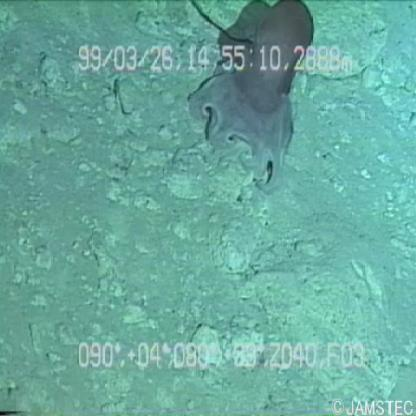Bio: (184, 1, 316, 199)
